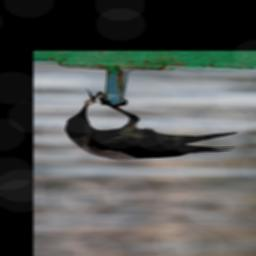Crow: (64, 96, 239, 161)
